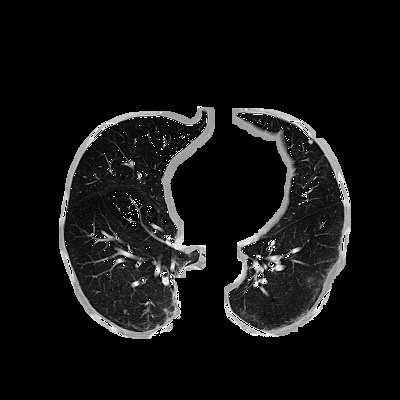PN: (307, 138, 313, 144)
